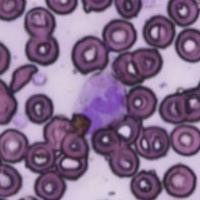N: (74, 72, 127, 134)
